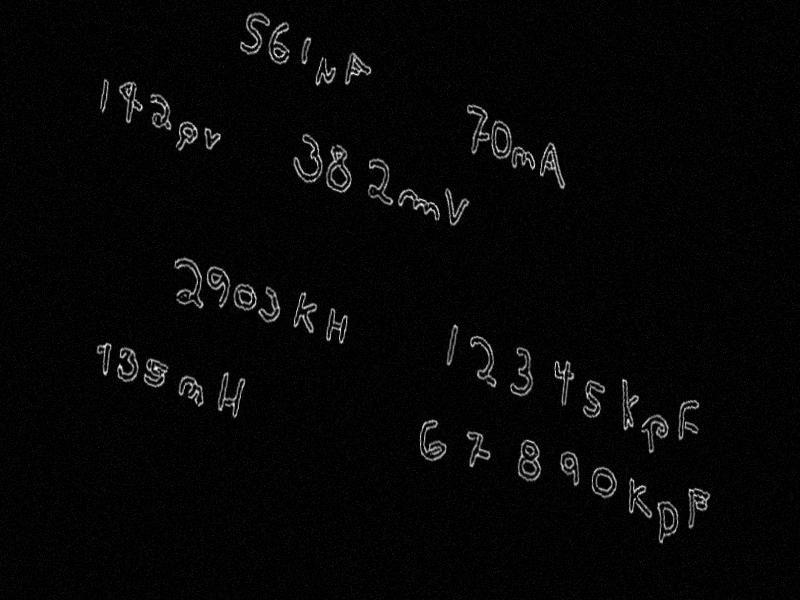0: (487, 116, 515, 166), (587, 460, 619, 502), (230, 275, 260, 316)
1: (91, 336, 114, 382), (443, 319, 461, 370), (97, 75, 112, 116), (298, 32, 312, 71)
2: (168, 250, 209, 318), (463, 331, 501, 392), (363, 152, 399, 209), (145, 88, 176, 135)
3: (288, 125, 329, 194), (507, 340, 538, 405), (255, 281, 287, 331), (113, 341, 144, 391), (190, 442, 191, 442)
4: (113, 75, 147, 129), (548, 354, 578, 411)
5: (237, 4, 272, 63), (581, 375, 607, 424), (141, 352, 170, 393)
6: (415, 413, 450, 468), (265, 15, 294, 70)
7: (459, 98, 495, 160), (462, 425, 495, 476)
8: (322, 138, 357, 199), (513, 433, 546, 489)
9: (202, 259, 234, 312), (556, 444, 584, 493)
A: (537, 138, 570, 192)
F: (341, 46, 374, 96), (675, 392, 703, 449), (683, 482, 711, 539)
H: (216, 367, 246, 423), (322, 304, 350, 350)
V: (440, 185, 472, 234), (201, 124, 224, 156)
k: (624, 473, 658, 524), (614, 373, 641, 434), (292, 287, 320, 337)
m: (395, 180, 443, 224)
n: (175, 369, 207, 411), (507, 141, 537, 179)
p: (637, 405, 671, 463), (651, 495, 683, 553), (174, 114, 202, 159)
u: (313, 51, 339, 94)
